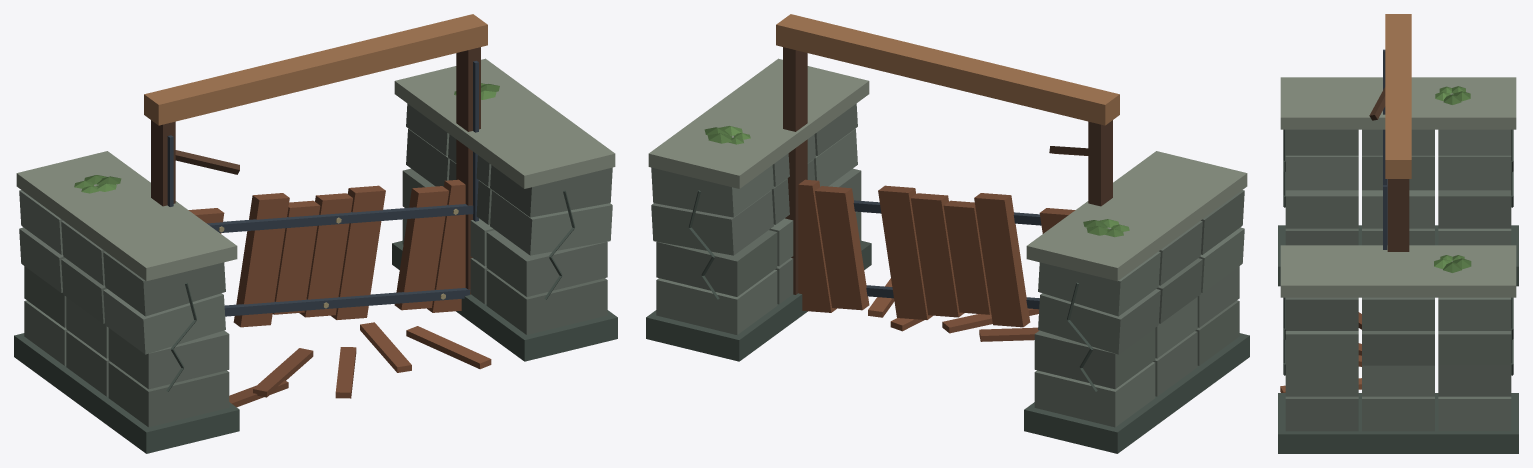
Rendered from sluice_ruined.glb.
3 renders of one model, left to right at view 1: azimuth 30°, elevation 25°; view 2: azimuth 150°, elevation 25°; view 3: azimuth 270°, elevation 25°, orthographic. The views are drawn at different scales.
Parts seen in each view (by area): view 1: geometry; view 2: geometry; view 3: geometry.
Part boxes in pixels (left/top/right/bottom): geometry: left=14, top=14, right=617, bottom=453; geometry: left=646, top=14, right=1249, bottom=453; geometry: left=1278, top=14, right=1518, bottom=453.
Bounding box in the file's own units: 5.96 × 3.48 × 2.9.
